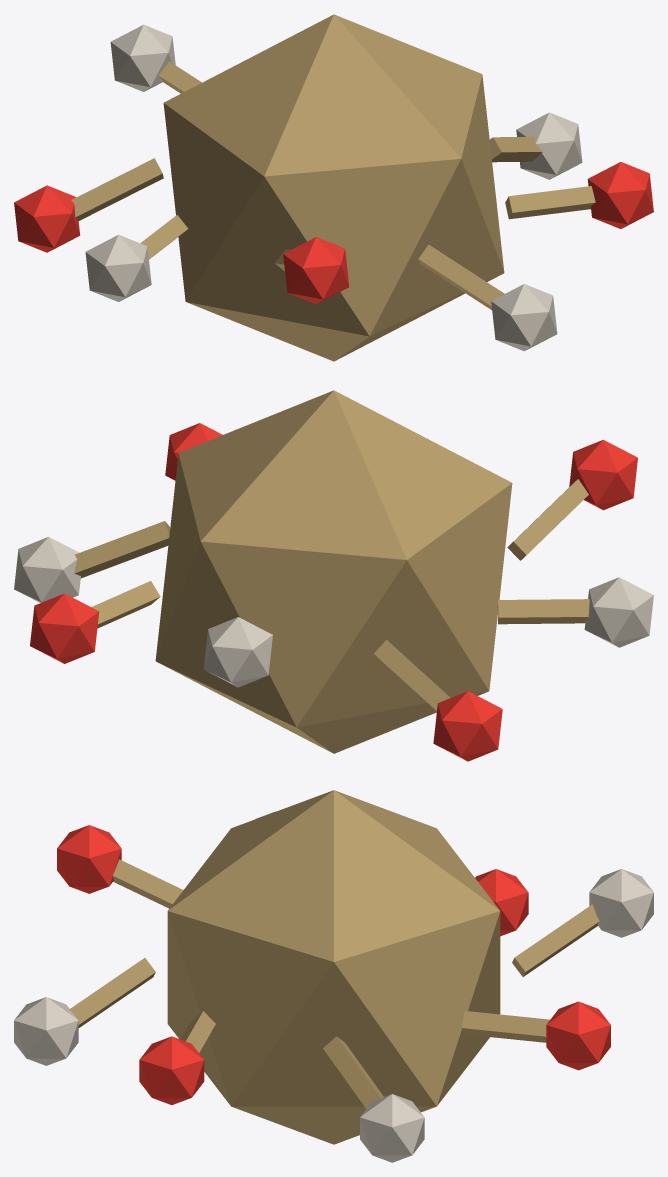
The model's file is NetBall.obj.
3 views of the same model, one above another, from view 1: azimuth 30°, elevation 25°; view 2: azimuth 150°, elevation 25°; view 3: azimuth 270°, elevation 25° (orthographic). The views are drawn at different scales.
Visible parts, largest first — view 1: NetBall; view 2: NetBall; view 3: NetBall.
Boxes of the visible parts, left/top/right/bottom form: NetBall: left=14, top=14, right=653, bottom=361; NetBall: left=14, top=390, right=653, bottom=761; NetBall: left=14, top=790, right=653, bottom=1162.
Size of the model in its own units: 0.5918 by 0.36 by 0.5888.
